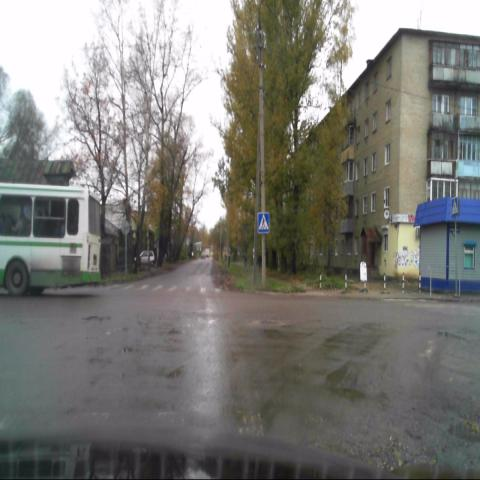5_19_1: (257, 211, 270, 234), (452, 197, 460, 216)
